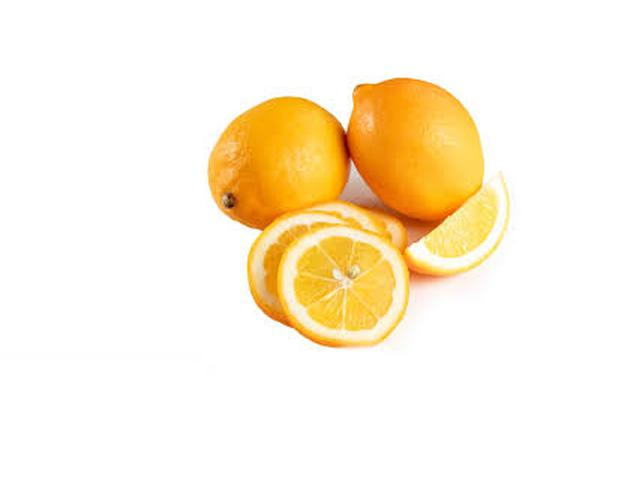lemon: (210, 93, 363, 222)
